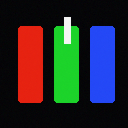4 line_v: (64, 17, 70, 43)
